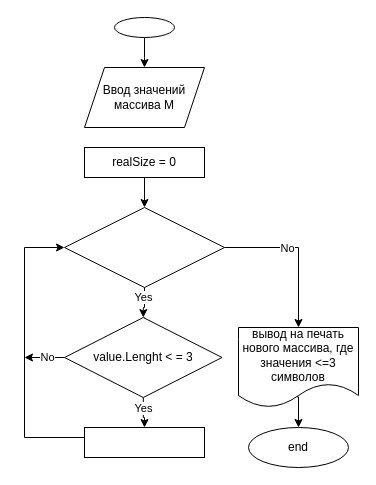
This 376x485 diagram has some shape labels left out. The centre of each missing label's shape, as x and y in pixels:
(цикл Foreach) var value in M: the point at 144,247
realSize ++: the point at 144,442
start: the point at 144,27
